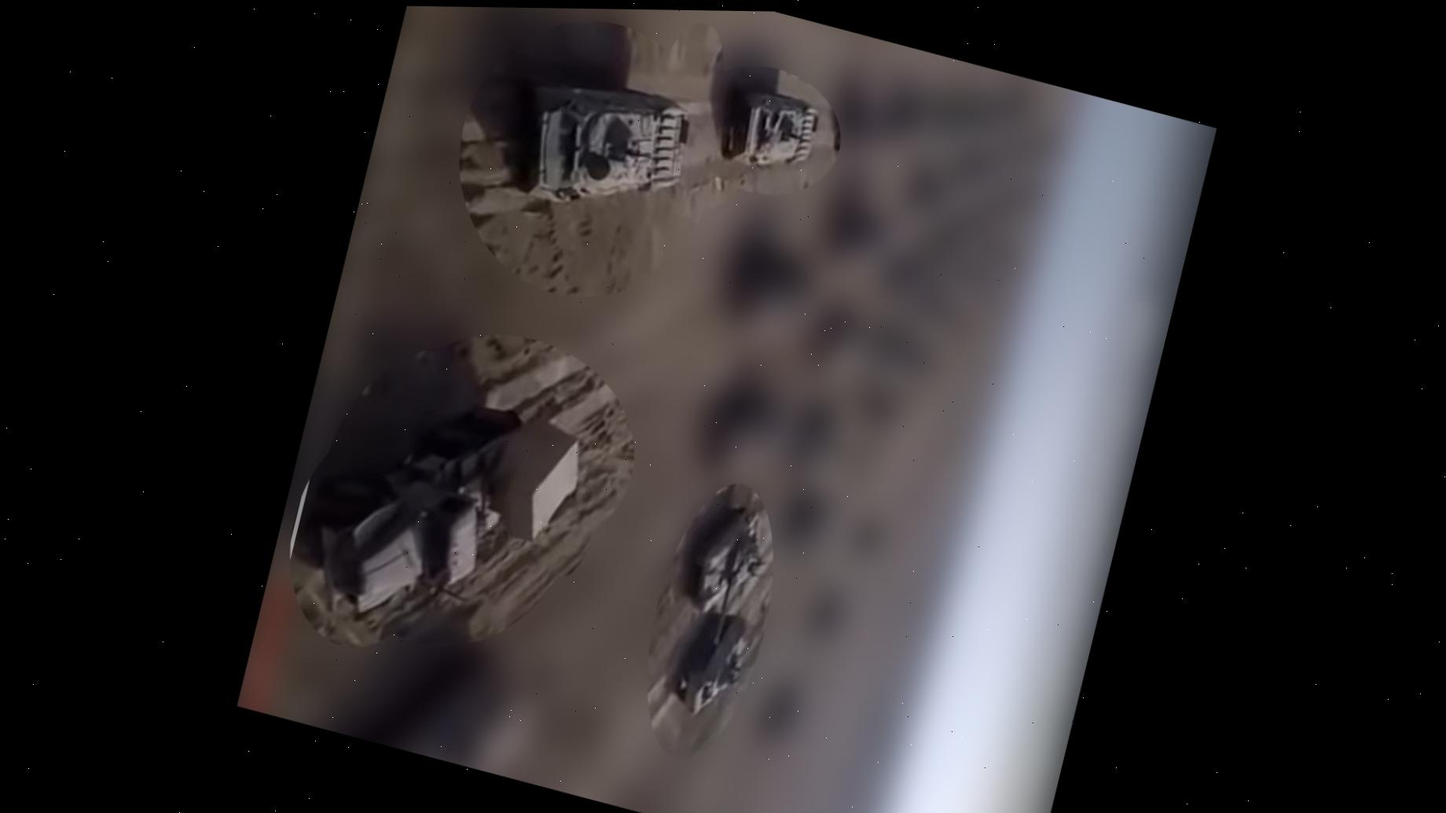armored_car: (500, 54, 704, 244), (650, 601, 773, 736), (716, 75, 829, 185)
tank: (657, 478, 788, 658)
truck: (265, 347, 606, 697)
